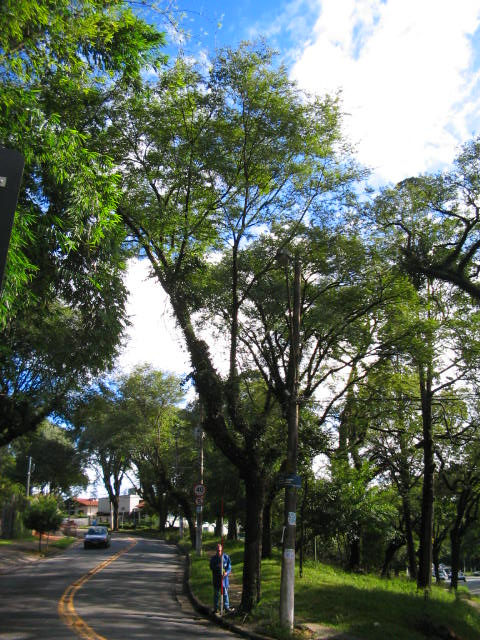crown: (79, 33, 454, 373)
stem: (233, 486, 277, 610)
stick: (211, 500, 228, 612)
tree: (76, 34, 454, 610)
